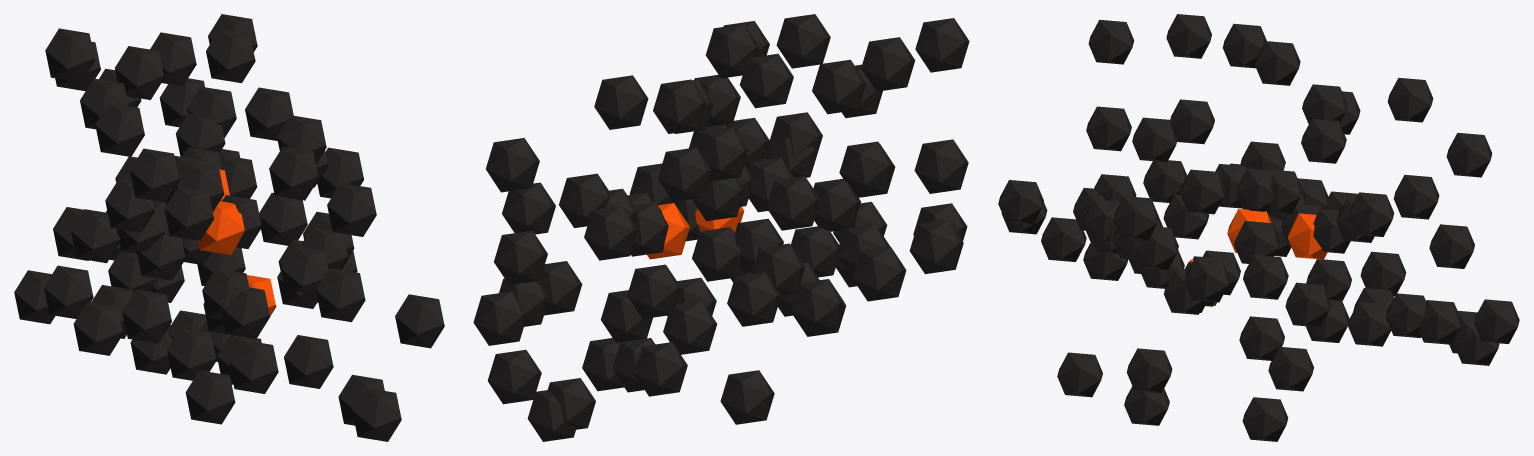
3 views of the same model, side by side, from view 1: azimuth 30°, elevation 25°; view 2: azimuth 150°, elevation 25°; view 3: azimuth 270°, elevation 25° (orthographic). The views are drawn at different scales.
Parts seen in each view (by area): view 1: Smoke, FireTrail; view 2: Smoke, FireTrail; view 3: Smoke, FireTrail.
Part boxes in pixels (x1=…): Smoke: x1=14, y1=14, x2=444, y2=441; FireTrail: x1=198, y1=169, x2=276, y2=316; Smoke: x1=473, y1=14, x2=969, y2=441; FireTrail: x1=647, y1=203, x2=744, y2=259; Smoke: x1=998, y1=14, x2=1519, y2=441; FireTrail: x1=1189, y1=209, x2=1327, y2=305.
Size of the model in its own units: 41.98 by 40.26 by 58.21.
